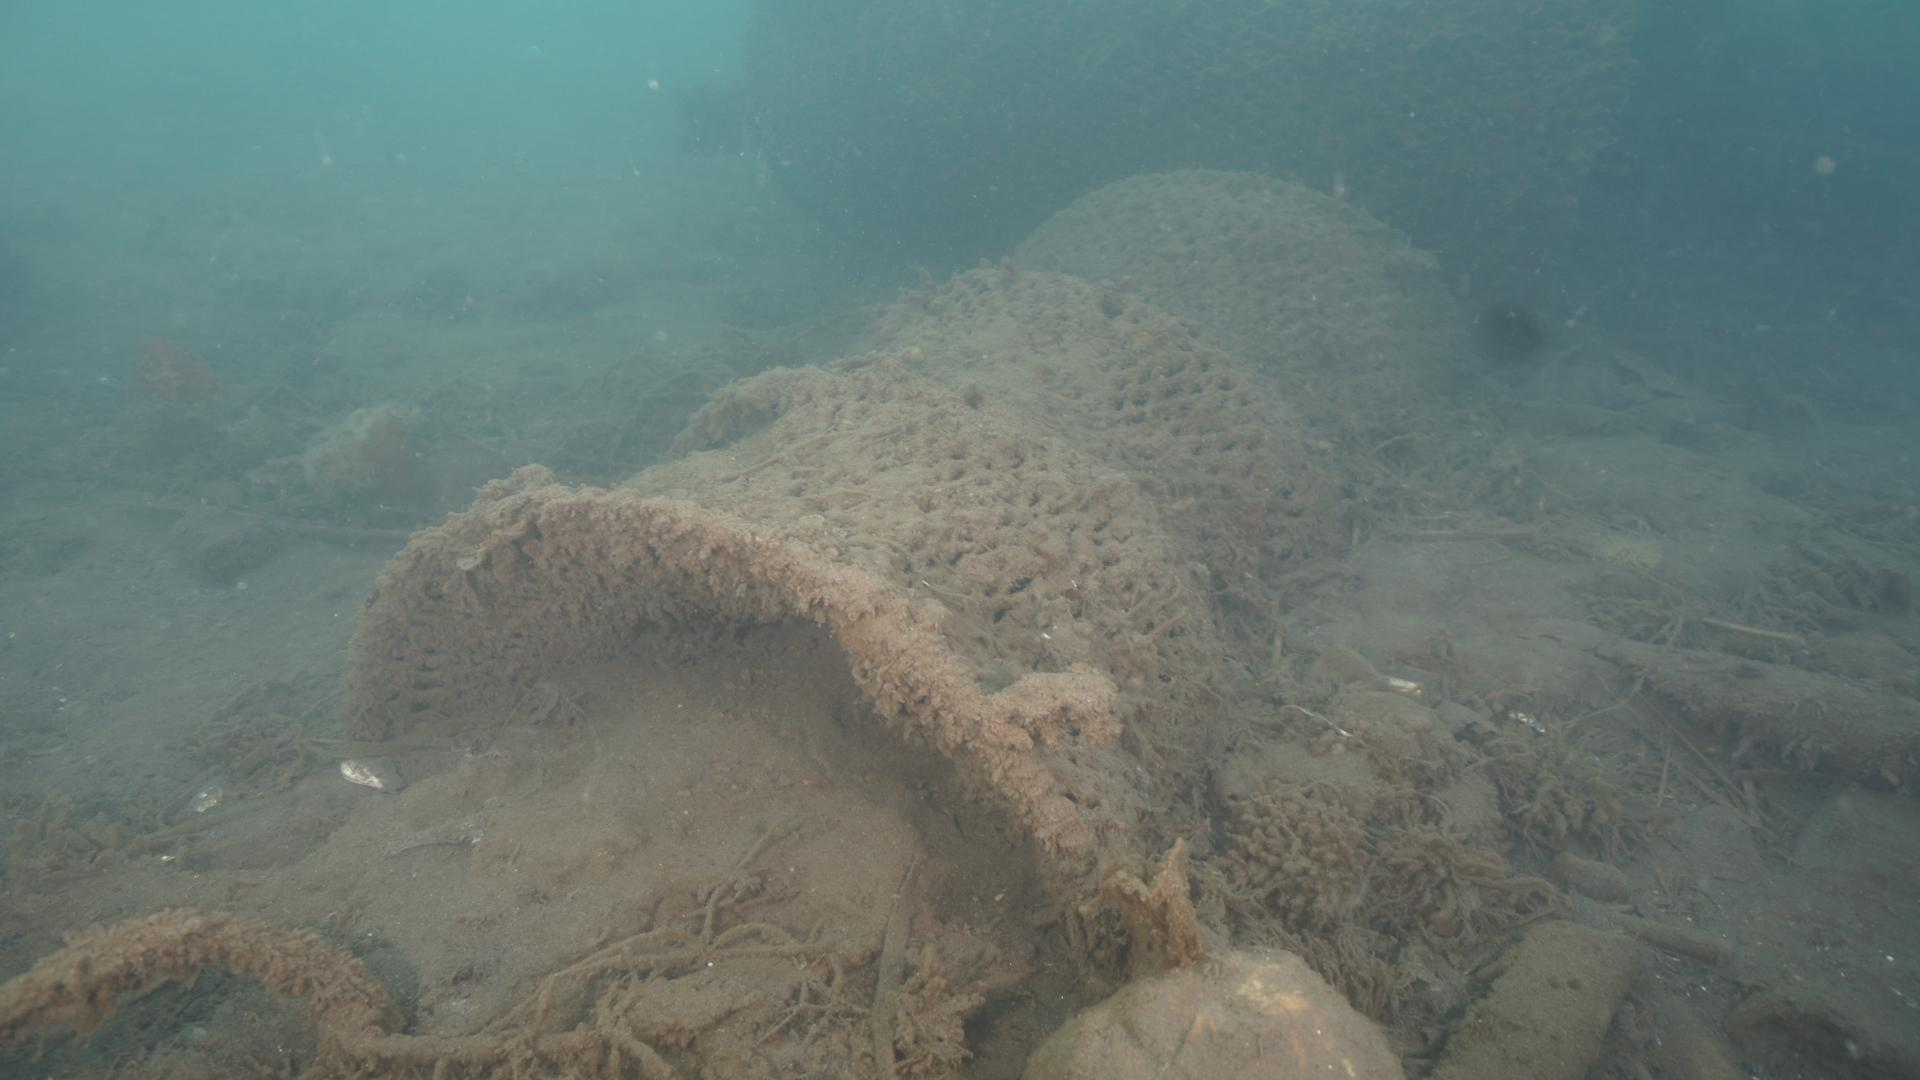spring fish trap: (338, 166, 1486, 981)
